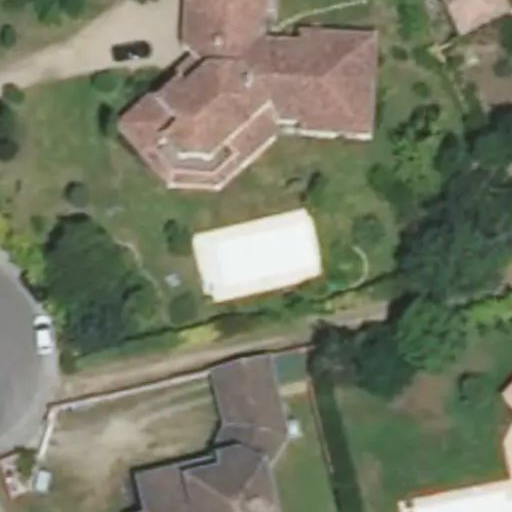pool: (215, 224, 314, 283)
